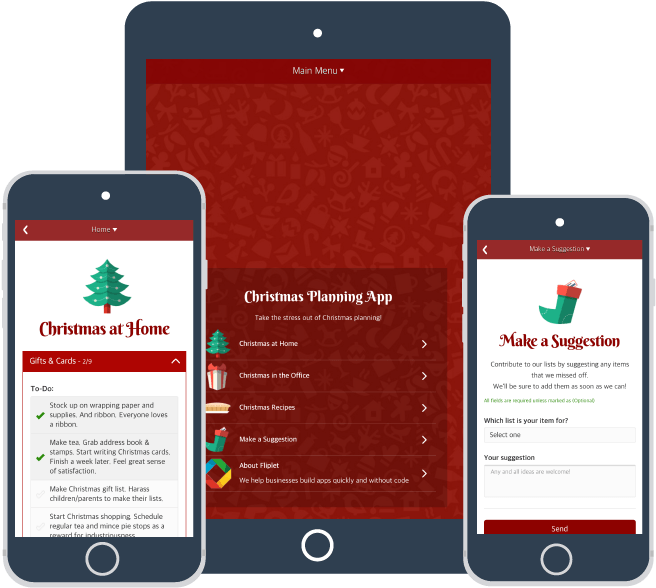phone: (2, 163, 205, 588), (452, 188, 656, 588)
